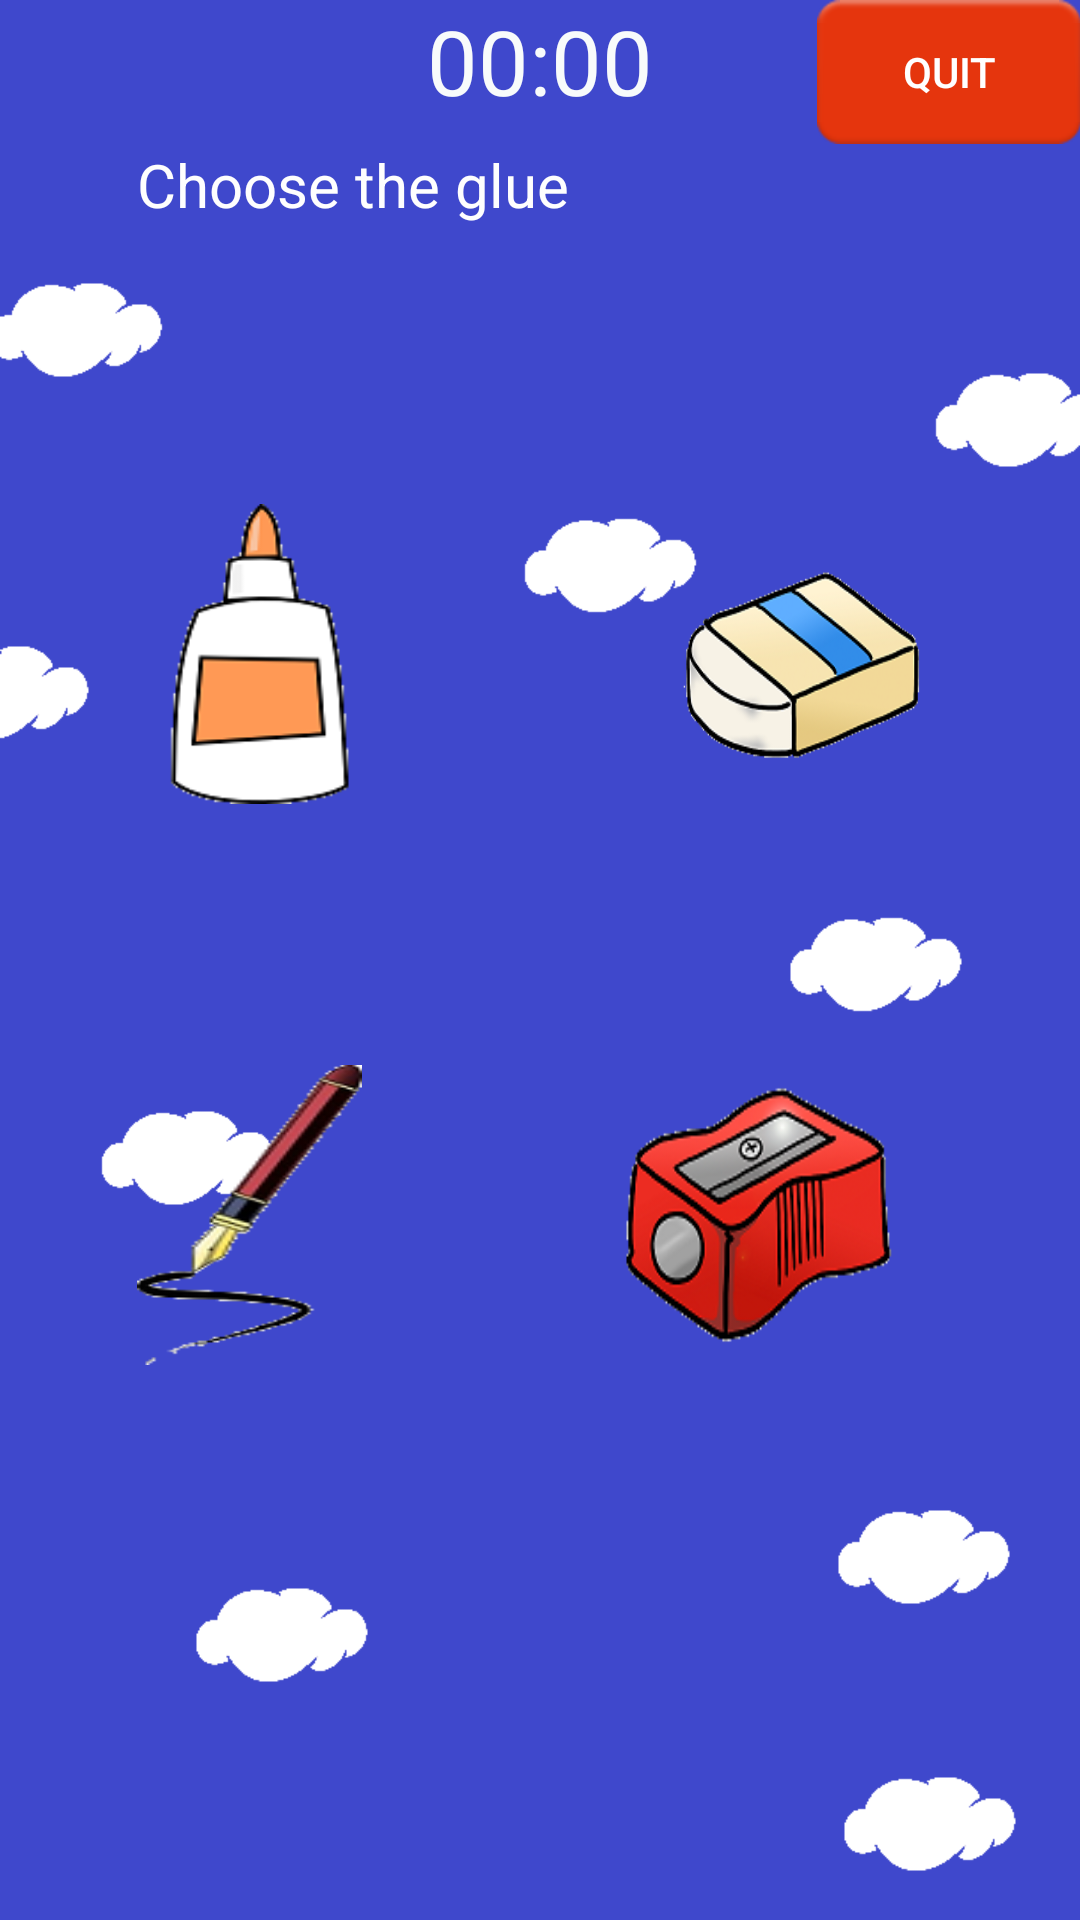

Named icons in this screenshot (1080×1920) and their centers, point (x, y):
eraser: point (801, 665)
pen: point (249, 1215)
pencil sharpener: point (758, 1215)
